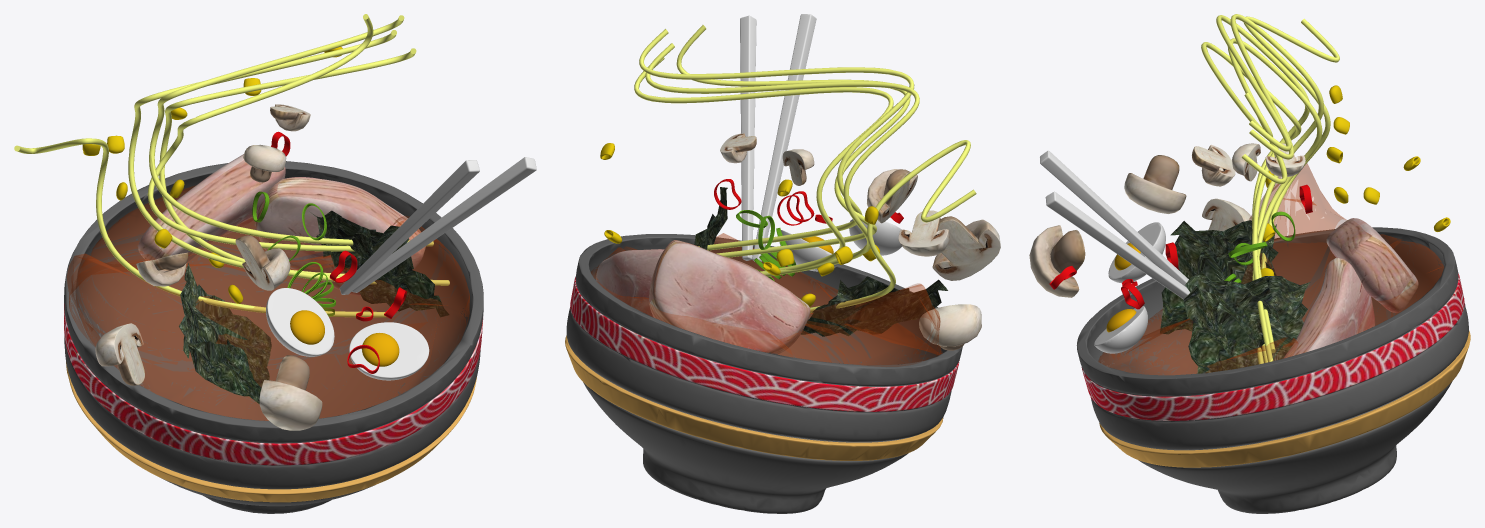
Rendered from ramen-spesial.glb.
The picture shows the model from 3 angles, left to right: view 1: azimuth 30°, elevation 25°; view 2: azimuth 150°, elevation 25°; view 3: azimuth 270°, elevation 25°; orthographic projection. The views are drawn at different scales.
Parts seen in each view (by area): view 1: Sphere; view 2: Sphere; view 3: Sphere.
Part boxes in pixels (box(x1,y1,x2,y2)): Sphere: box(14, 14, 536, 513); Sphere: box(565, 14, 1000, 513); Sphere: box(1029, 14, 1470, 513).
Bounding box in the file's own units: 4.8 × 5.08 × 4.65.
15 materials, 5 textured.
